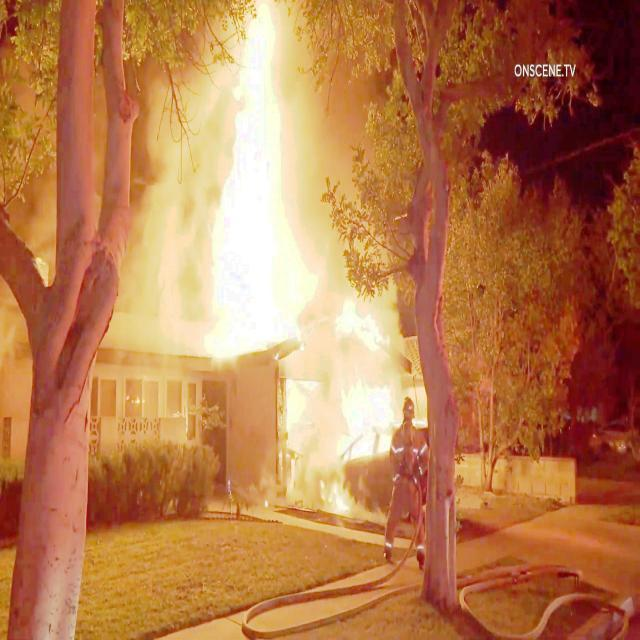Fire: (215, 0, 301, 357), (289, 314, 402, 434), (290, 302, 345, 514)
Smoke: (136, 176, 208, 346)
